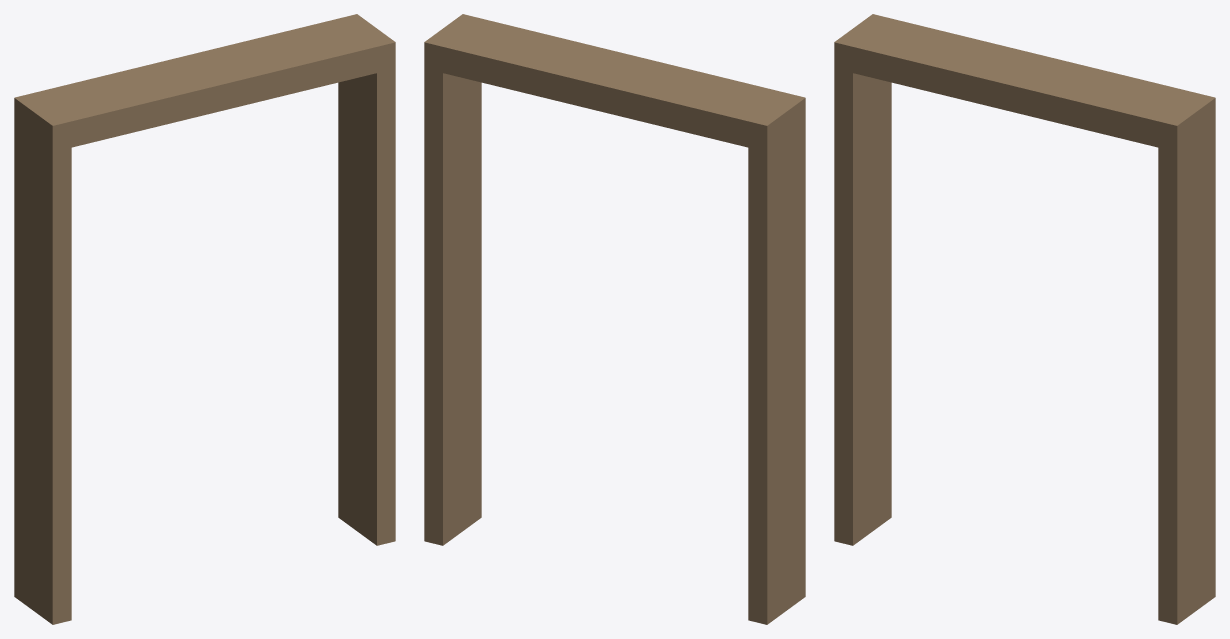
Rendered from StationDoorLining.fbx.
3 renders of one model, left to right at view 1: azimuth 30°, elevation 25°; view 2: azimuth 150°, elevation 25°; view 3: azimuth 330°, elevation 25°, orthographic.
Parts seen in each view (by area): view 1: StationDoorLining_Timber; view 2: StationDoorLining_Timber; view 3: StationDoorLining_Timber.
Boxes of the visible parts, x1,y1,x2,y2 form: StationDoorLining_Timber: (14,14,395,624); StationDoorLining_Timber: (424,14,805,624); StationDoorLining_Timber: (834,14,1215,624).
Bounding box in the file's own units: 164 × 228 × 32.
